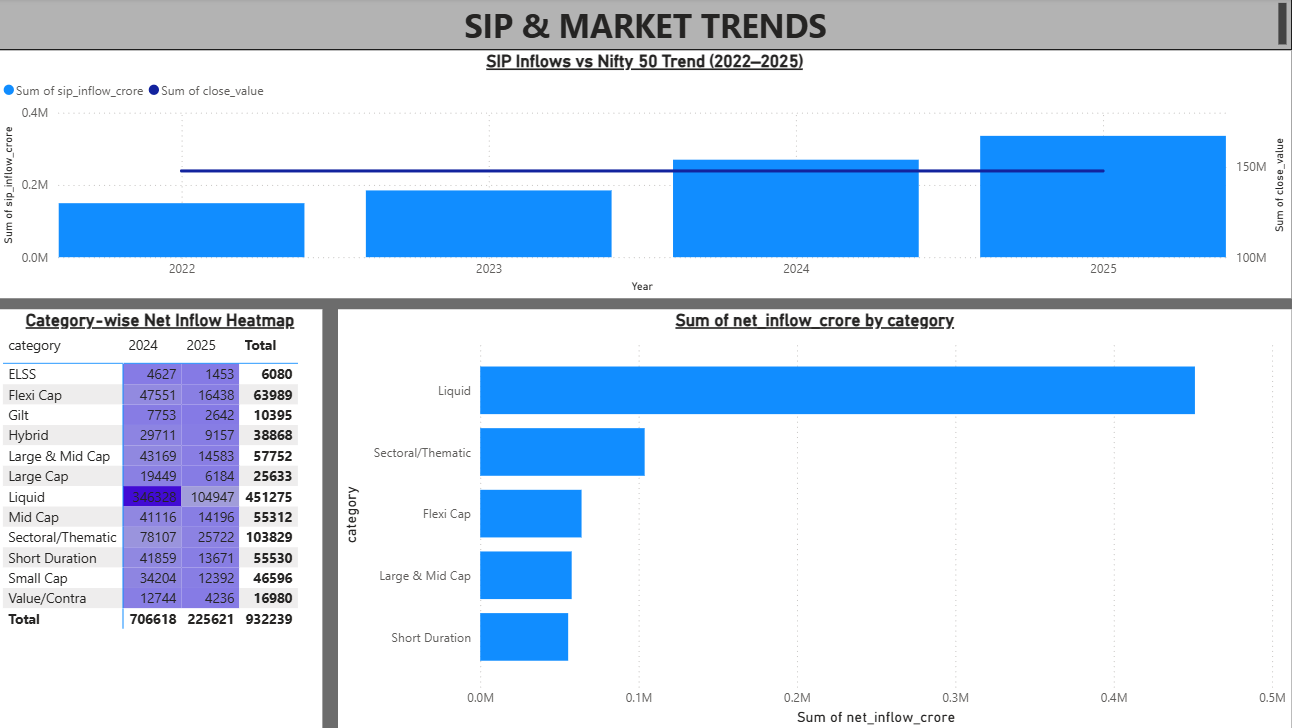

This screenshot's page, from the dashboard's own definition file:
{"tool":"powerbi","page":{"name":"  SIP & MARKET TRENDS","canvas":[1280,720],"ordinal":3},"visuals":[{"type":"textbox","box":[9.8,0,1269.9,51.5],"z":0},{"type":"lineClusteredColumnComboChart","title":"SIP Inflows vs Nifty 50 Trend (2022–2025)","fields":{"Category":["04_monthly_sip_inflows.month.Variation.Date Hierarchy.Year","04_monthly_sip_inflows.month.Variation.Date Hierarchy.Quarter","04_monthly_sip_inflows.month.Variation.Date Hierarchy.Month","04_monthly_sip_inflows.month.Variation.Date Hierarchy.Day"],"Y":["Sum(04_monthly_sip_inflows.sip_inflow_crore)"],"Y2":["Sum(10_benchmark_indices.close_value)"]},"box":[9.6,52.1,1269.3,242.9],"z":1},{"type":"pivotTable","title":"Category-wise Net Inflow Heatmap","fields":{"Rows":["05_category_inflows.category"],"Columns":["05_category_inflows.month.Variation.Date Hierarchy.Year","05_category_inflows.month.Variation.Date Hierarchy.Quarter","05_category_inflows.month.Variation.Date Hierarchy.Month","05_category_inflows.month.Variation.Date Hierarchy.Day"],"Values":["Sum(05_category_inflows.net_inflow_crore)"]},"box":[9.7,305.6,318.1,413.9],"z":2},{"type":"clusteredBarChart","fields":{"Category":["05_category_inflows.category"],"Y":["Sum(05_category_inflows.net_inflow_crore)"]},"box":[343.1,305.6,936.1,413.9],"z":3}]}

Visuals, with their boxes in screenshot pixels (x1, y1, x2, y2), scaled from the page's 1280x720 canvas onto the 1292x728 screenshot:
textbox: rect(10, 0, 1291, 52)
"SIP Inflows vs Nifty 50 Trend (2022–2025)" lineClusteredColumnComboChart: rect(10, 53, 1291, 298)
"Category-wise Net Inflow Heatmap" pivotTable: rect(10, 309, 331, 727)
clusteredBarChart - 05_category_inflows.category x Sum(05_category_inflows.net_inflow_crore): rect(346, 309, 1291, 727)
